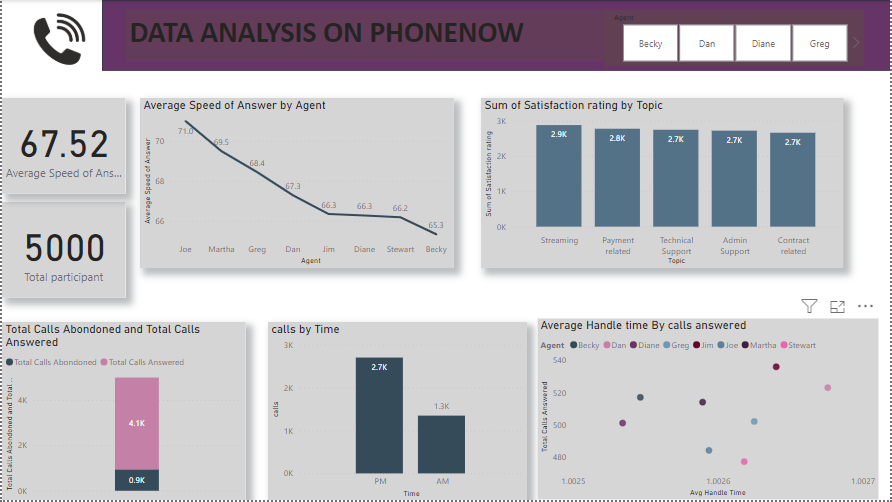

The page's visual inventory and layout, read from the dashboard file:
{"tool":"powerbi","page":{"name":"Page 1","canvas":[1280,720],"ordinal":0},"visuals":[{"type":"shape","box":[144.5,0,1135.5,102.5],"z":0},{"type":"image","box":[0,0,144.5,161.3],"z":1000},{"type":"columnChart","fields":{"Y":["call center dataset.Toall Calls abondoned","call center dataset.Total Calls Answered"]},"box":[0,463.6,351.1,257],"z":2000},{"type":"lineChart","fields":{"Y":["call center dataset.Average Speed of Answer"],"Category":["call center dataset.Agent"]},"box":[198.7,141.1,452.2,244.8],"z":3000},{"type":"card","fields":{"Values":["call center dataset.Total participant"]},"box":[0,290.6,178.1,137.7],"z":4000},{"type":"card","fields":{"Values":["call center dataset.Average Speed of Answer"]},"box":[0,141.1,178.1,137.7],"z":5000},{"type":"columnChart","fields":{"Category":["call center dataset.Time Period"],"Y":["call center dataset.Total Calls Answered"]},"box":[383,463.6,372.9,257],"z":7000},{"type":"scatterChart","title":"Average Handle time By calls answered","fields":{"X":["call center dataset.Avg Handle Time"],"Y":["call center dataset.Total Calls Answered"],"Series":["call center dataset.Agent"]},"box":[771,458.6,492.2,262],"z":7001},{"type":"columnChart","fields":{"Category":["call center dataset.Topic"],"Y":["call center dataset.Satisfaction rating"]},"box":[690.4,141.1,522.4,245.2],"z":7002},{"type":"textbox","box":[178.6,14.4,764.6,73.4],"z":7003},{"type":"slicer","fields":{"Values":["call center dataset.Agent"]},"box":[868.3,14.4,373,80.6],"z":7004}]}

Visuals, with their boxes in screenshot pixels (x1, y1, x2, y2), scaled from the page's 1280x720 canvas onto the 892x502 screenshot:
shape: x1=101 y1=0 x2=891 y2=71
image: x1=0 y1=0 x2=101 y2=112
columnChart - call center dataset.Toall Calls abondoned x call center dataset.Total Calls Answered: x1=0 y1=323 x2=245 y2=501
lineChart - call center dataset.Average Speed of Answer x call center dataset.Agent: x1=138 y1=98 x2=454 y2=269
card - call center dataset.Total participant: x1=0 y1=203 x2=124 y2=299
card - call center dataset.Average Speed of Answer: x1=0 y1=98 x2=124 y2=194
columnChart - call center dataset.Time Period x call center dataset.Total Calls Answered: x1=267 y1=323 x2=527 y2=501
"Average Handle time By calls answered" scatterChart: x1=537 y1=320 x2=880 y2=501
columnChart - call center dataset.Topic x call center dataset.Satisfaction rating: x1=481 y1=98 x2=845 y2=269
textbox: x1=124 y1=10 x2=657 y2=61
slicer - call center dataset.Agent: x1=605 y1=10 x2=865 y2=66
